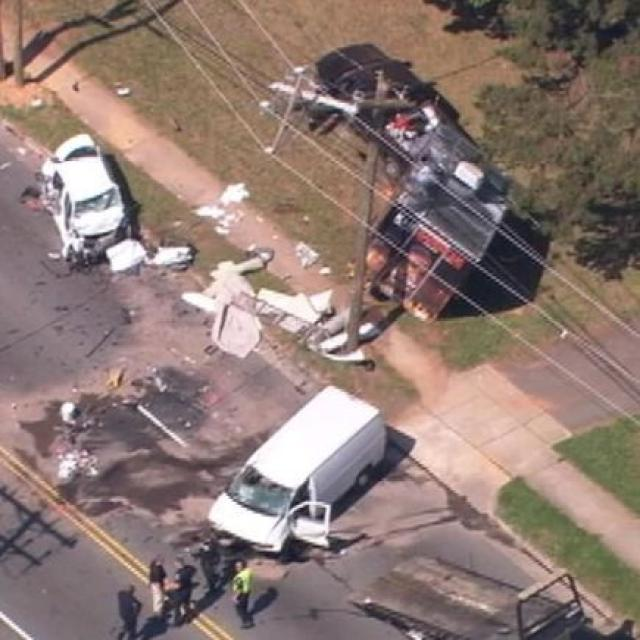traffic_incident: (312, 42, 518, 318), (204, 354, 387, 575), (19, 140, 153, 266)
